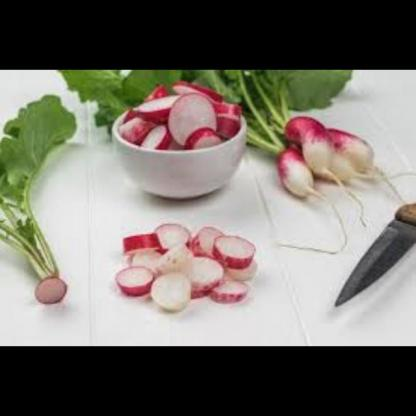rediska: (108, 215, 262, 308), (268, 107, 390, 197), (121, 78, 251, 153), (30, 261, 74, 314)
